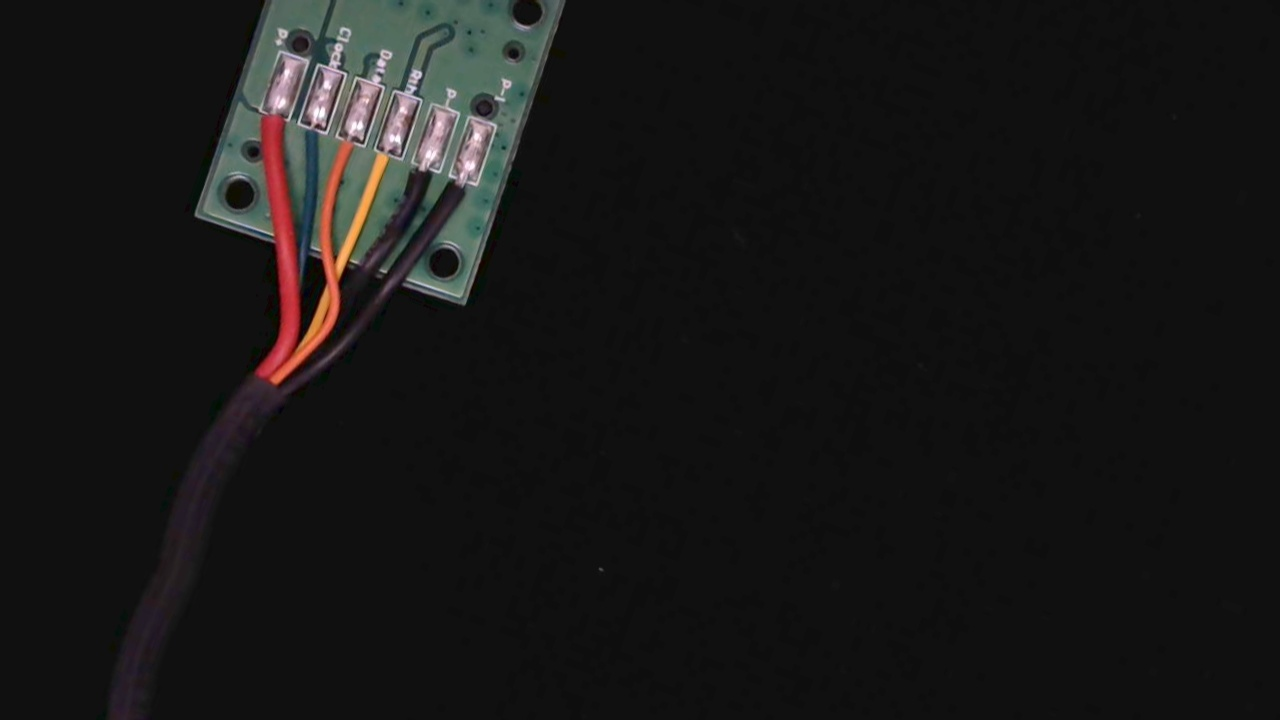Black: (392, 146, 446, 217)
Black1: (429, 159, 483, 233)
Green: (281, 106, 333, 173)
Orange: (317, 122, 370, 192)
Red: (238, 96, 295, 173)
Yellow: (353, 132, 405, 204)
